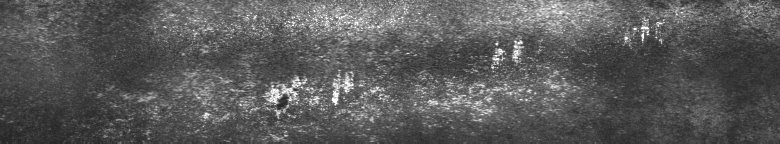kb: (344, 4, 776, 136)
